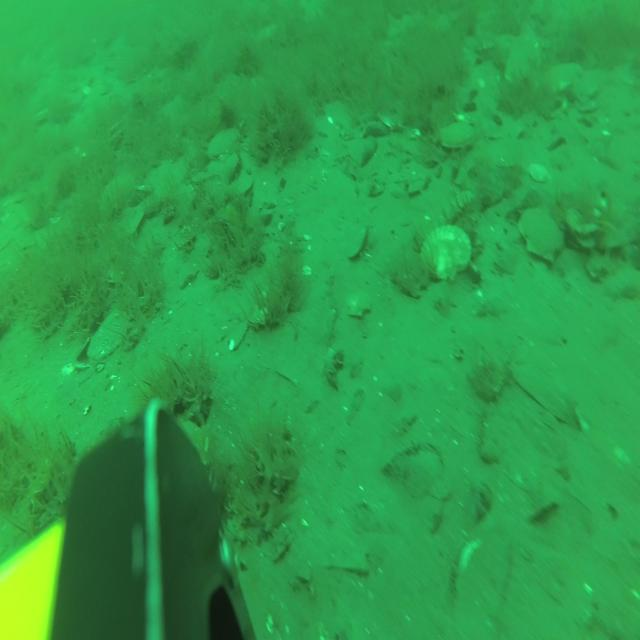scallop: (420, 221, 476, 288), (518, 202, 566, 266), (85, 306, 133, 365), (206, 122, 242, 160), (437, 120, 478, 152), (343, 285, 376, 324)
